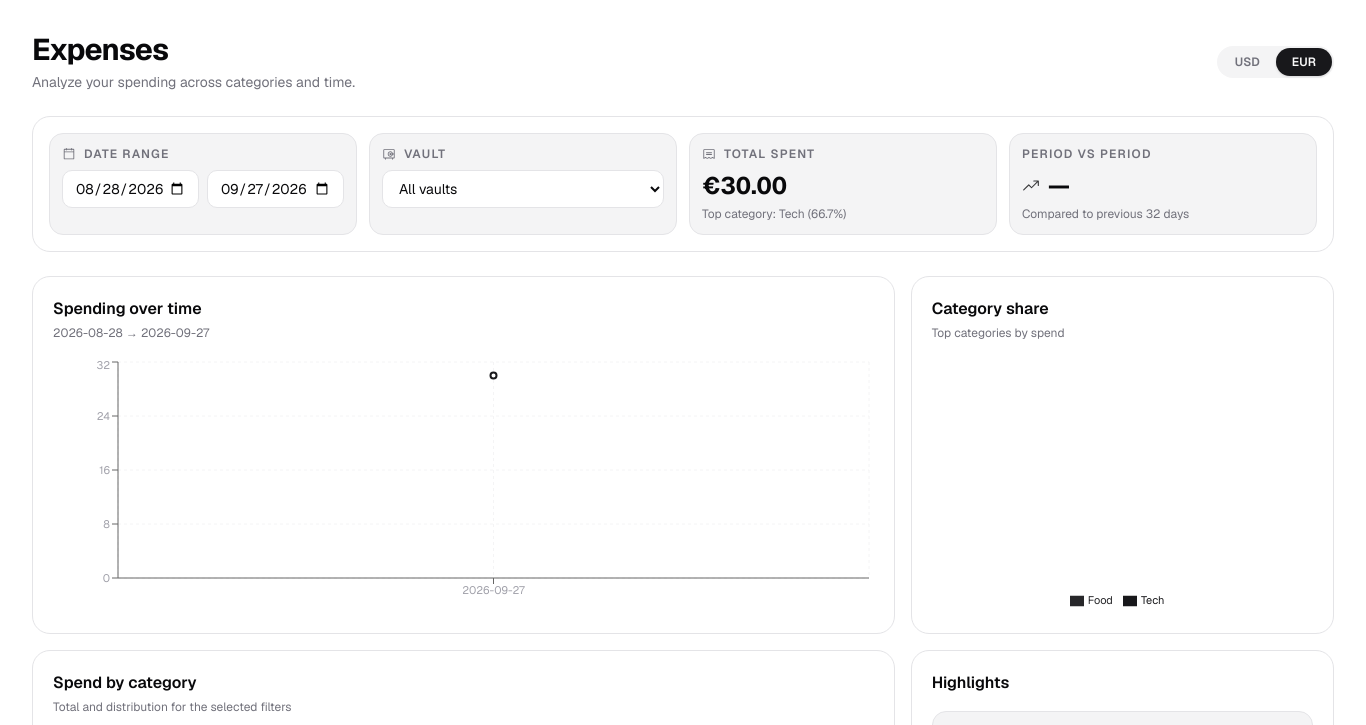
Test: Expenses dashboard › aggregates expenses by category and filters by vault
The width and height of the screenshot is (1366, 725).
Expected: the heading "Spend by category" is shown, [53,672,196,693]
Expected: the text "€30.00" below "Total spent" is shown, [702,170,787,201]
Select "Main" in the dropdown named "Vault filter" at [523, 189], box [382,170,664,208]
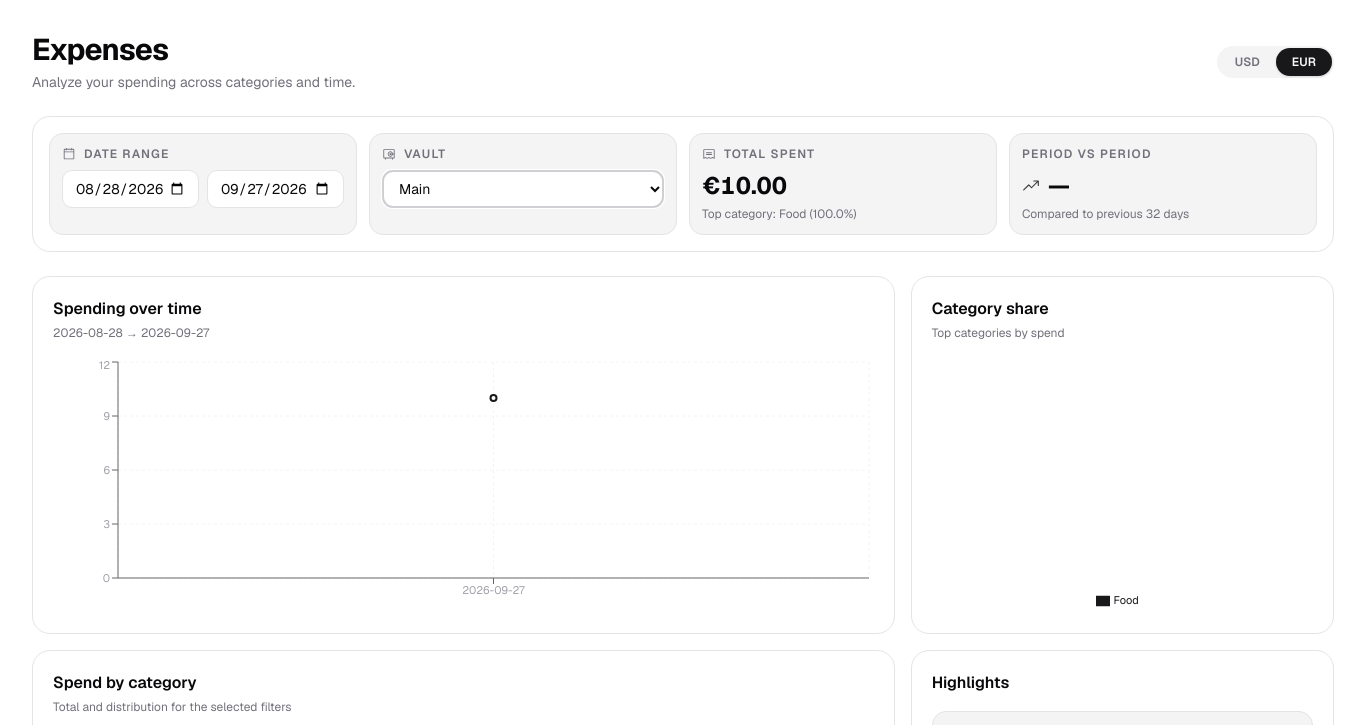
Expected: the text "€10.00" below "Total spent" is shown, [702,170,787,201]
